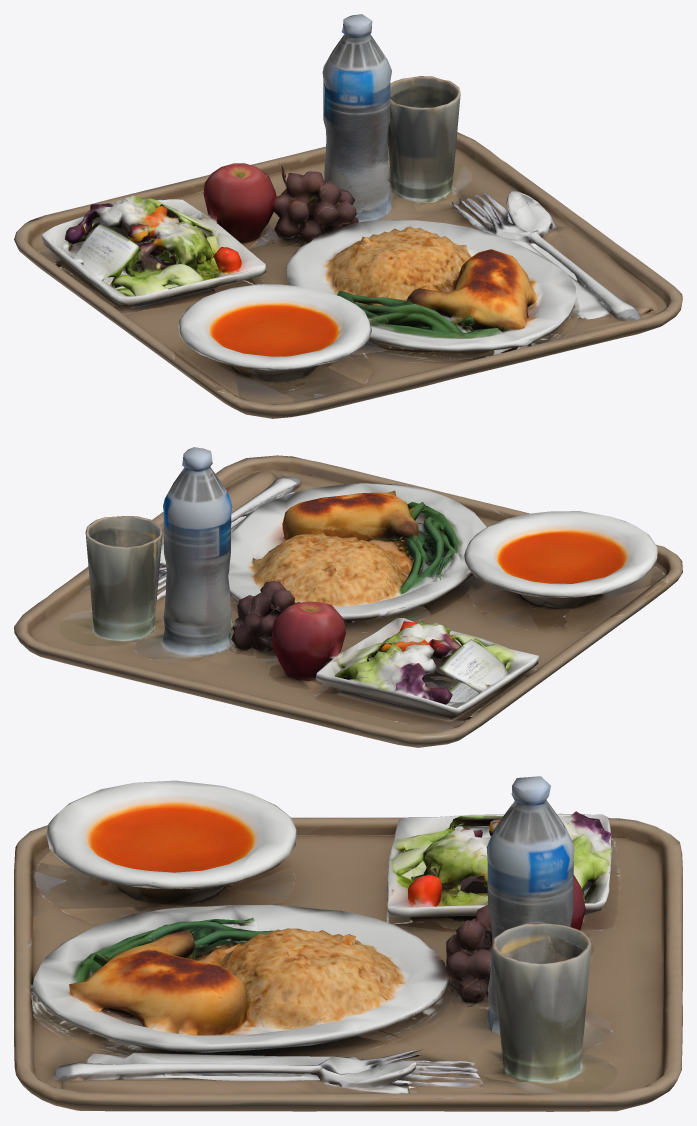
File: yemekhanetepsi.fbx
The picture shows the model from 3 angles, top to bottom: view 1: azimuth 30°, elevation 25°; view 2: azimuth 150°, elevation 25°; view 3: azimuth 270°, elevation 25°; orthographic projection. The views are drawn at different scales.
Visible parts, largest first — view 1: Mesh_0; view 2: Mesh_0; view 3: Mesh_0.
Part boxes in pixels (<box>): Mesh_0: <box>14,14,682,418</box>; Mesh_0: <box>14,447,682,747</box>; Mesh_0: <box>14,776,682,1111</box>.
Size of the model in its own units: 191 by 80.92 by 191.
1 material, 1 textured.
